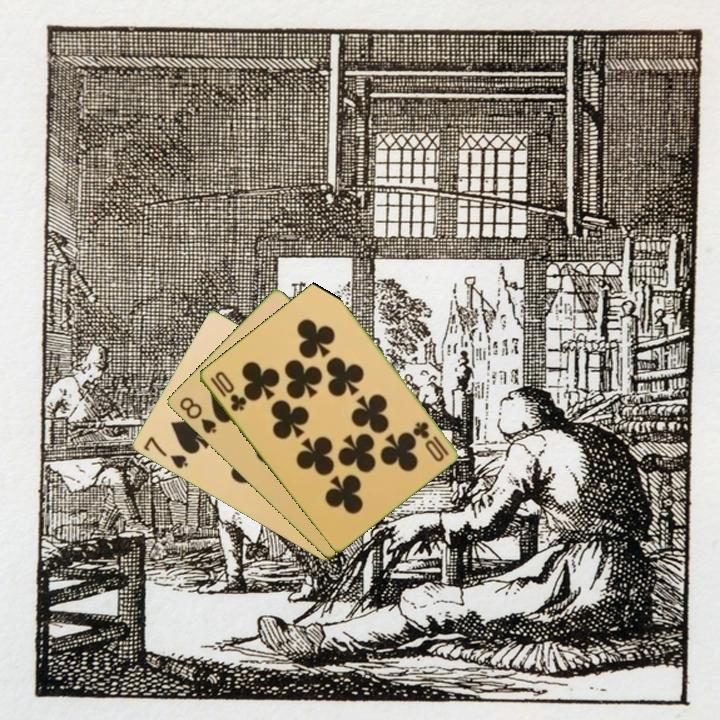10c: (206, 367, 249, 414), (410, 418, 451, 465)
7s: (139, 433, 190, 472)
8s: (175, 393, 219, 437)
